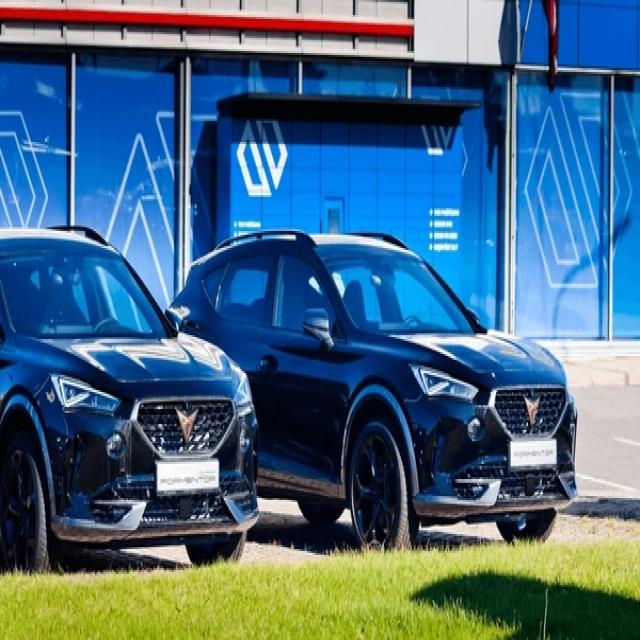cupra: (177, 406, 198, 441), (527, 394, 537, 429)
